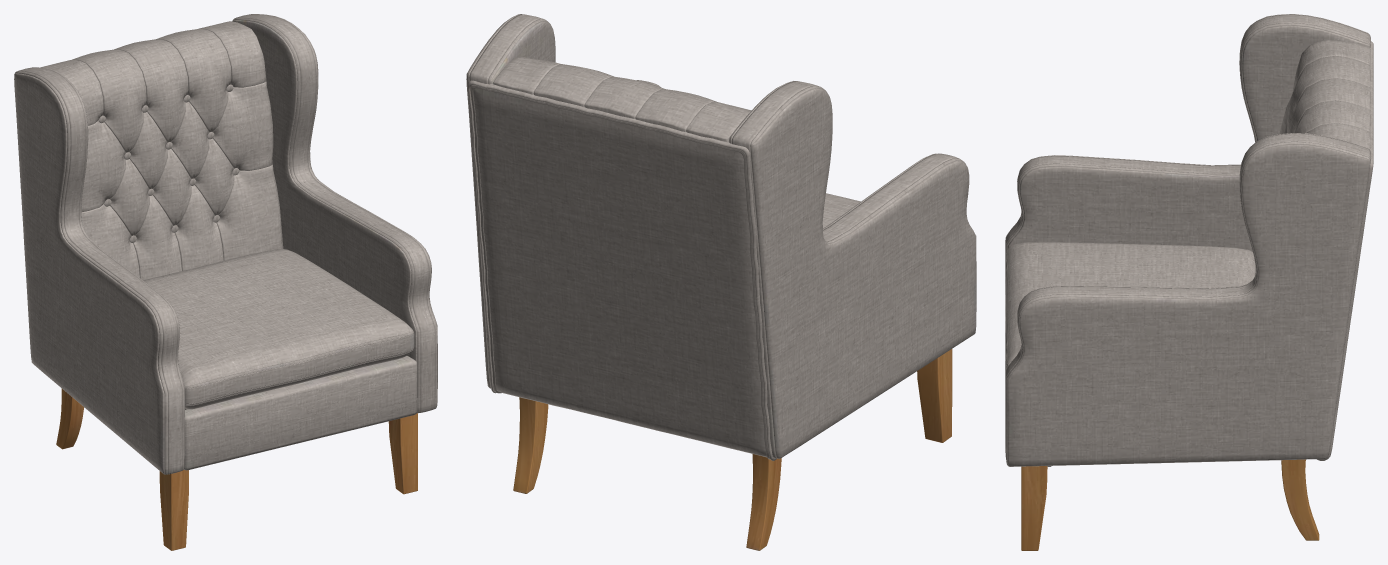
The model's file is abo-B07QGSZ4LN.glb.
3 views of the same model, side by side, from view 1: azimuth 30°, elevation 25°; view 2: azimuth 150°, elevation 25°; view 3: azimuth 270°, elevation 25° (orthographic). The views are drawn at different scales.
Size of the model in its own units: 0.71 by 0.93 by 0.76.
Materials: 1 (1 with a texture image).
